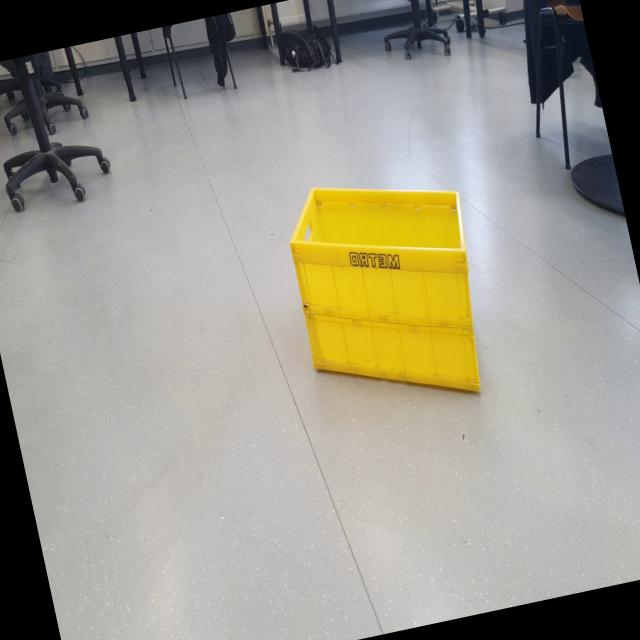box: (272, 151, 510, 429)
